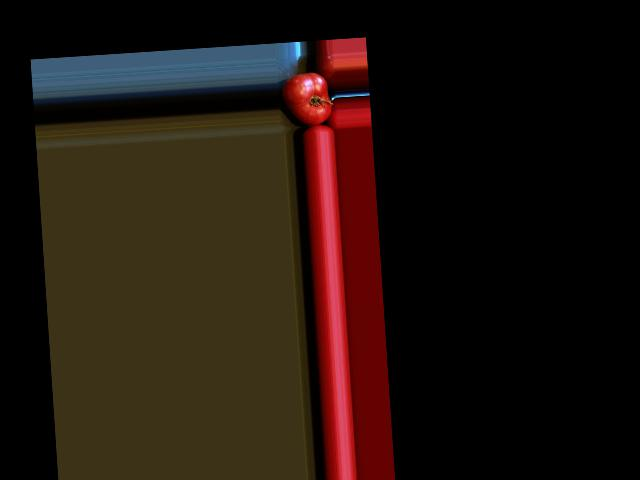tomato: (280, 71, 332, 127)
